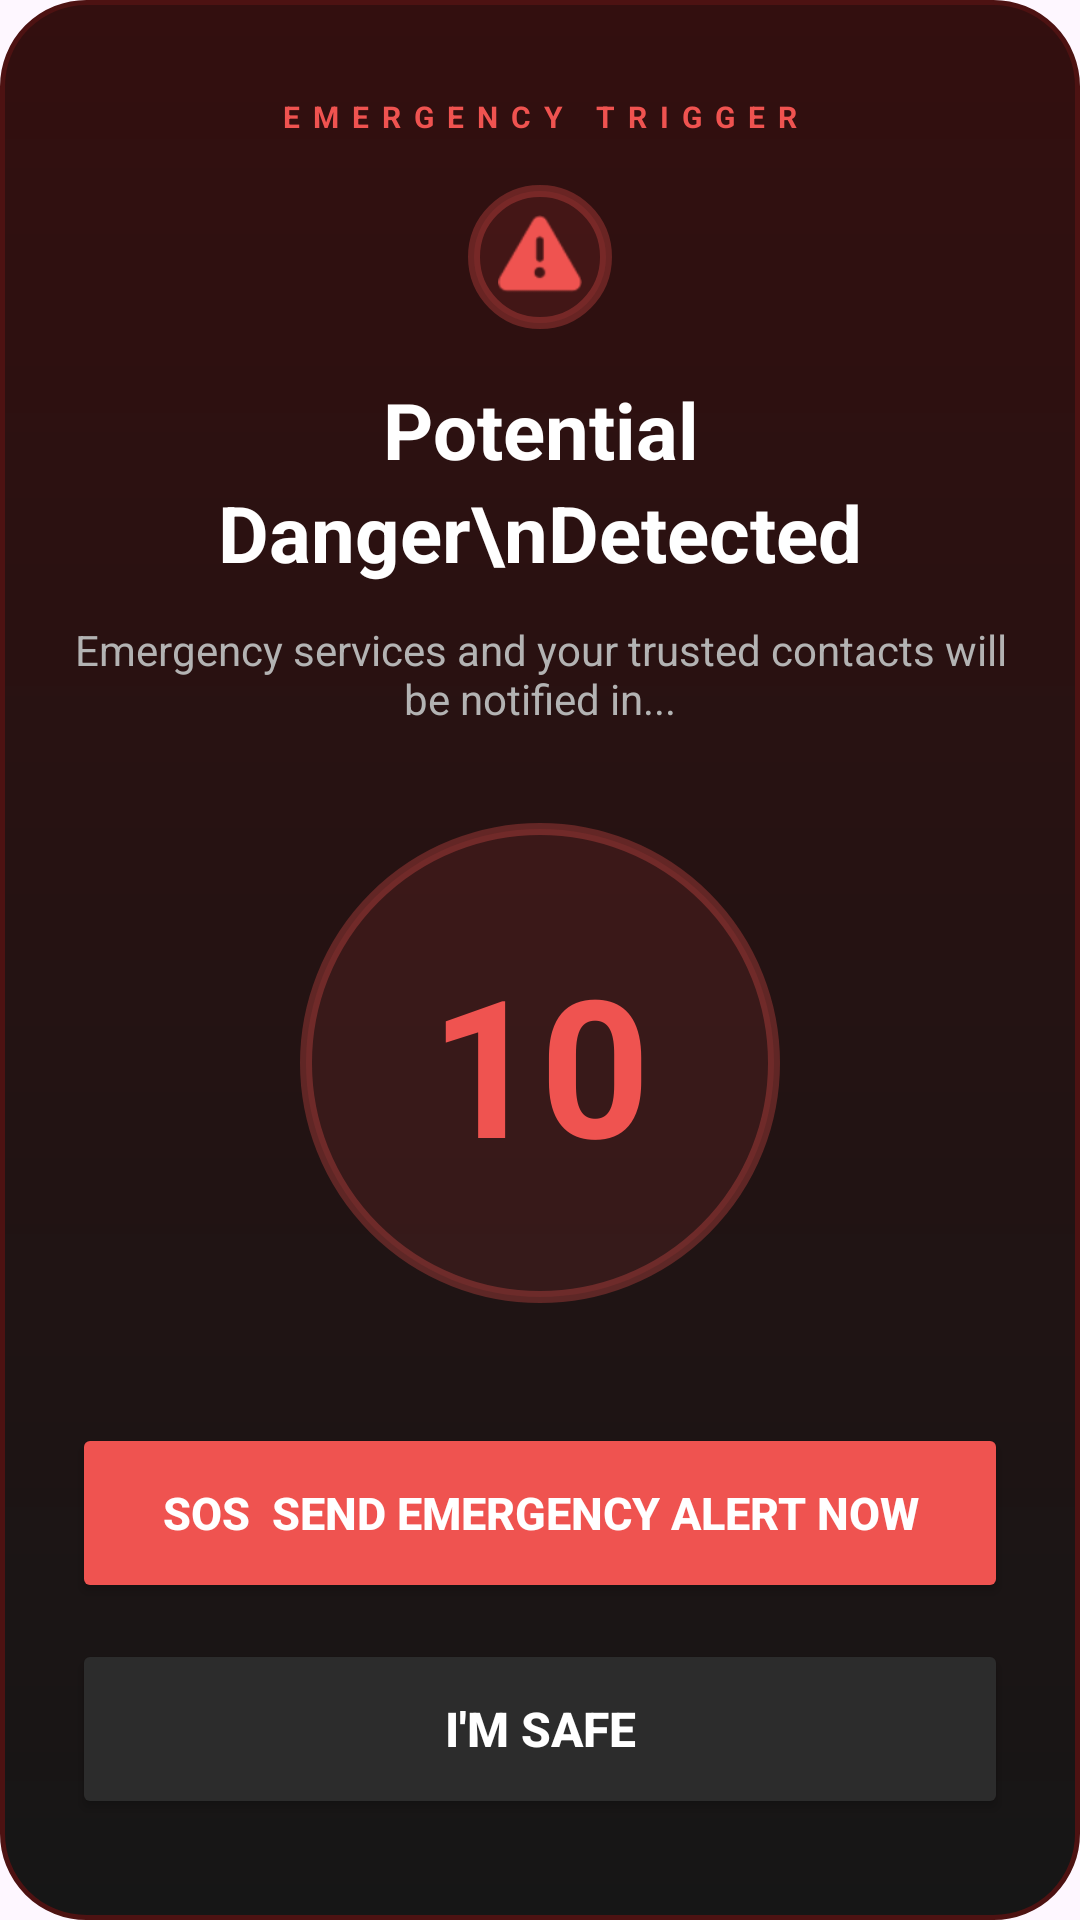

Screen size 1080 x 1920. Icon name, then its center in pixels as [x,y]:
alert: [540,257]
